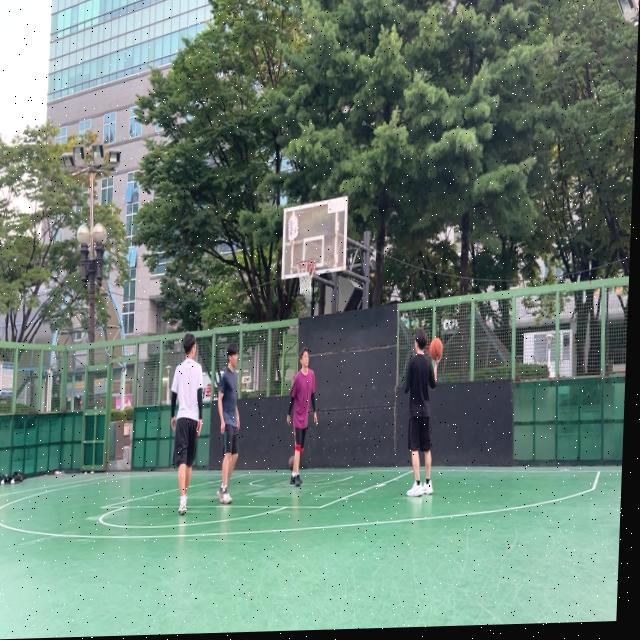basketball: (429, 337, 443, 360), (288, 455, 295, 471)
hoop: (294, 259, 316, 296)
